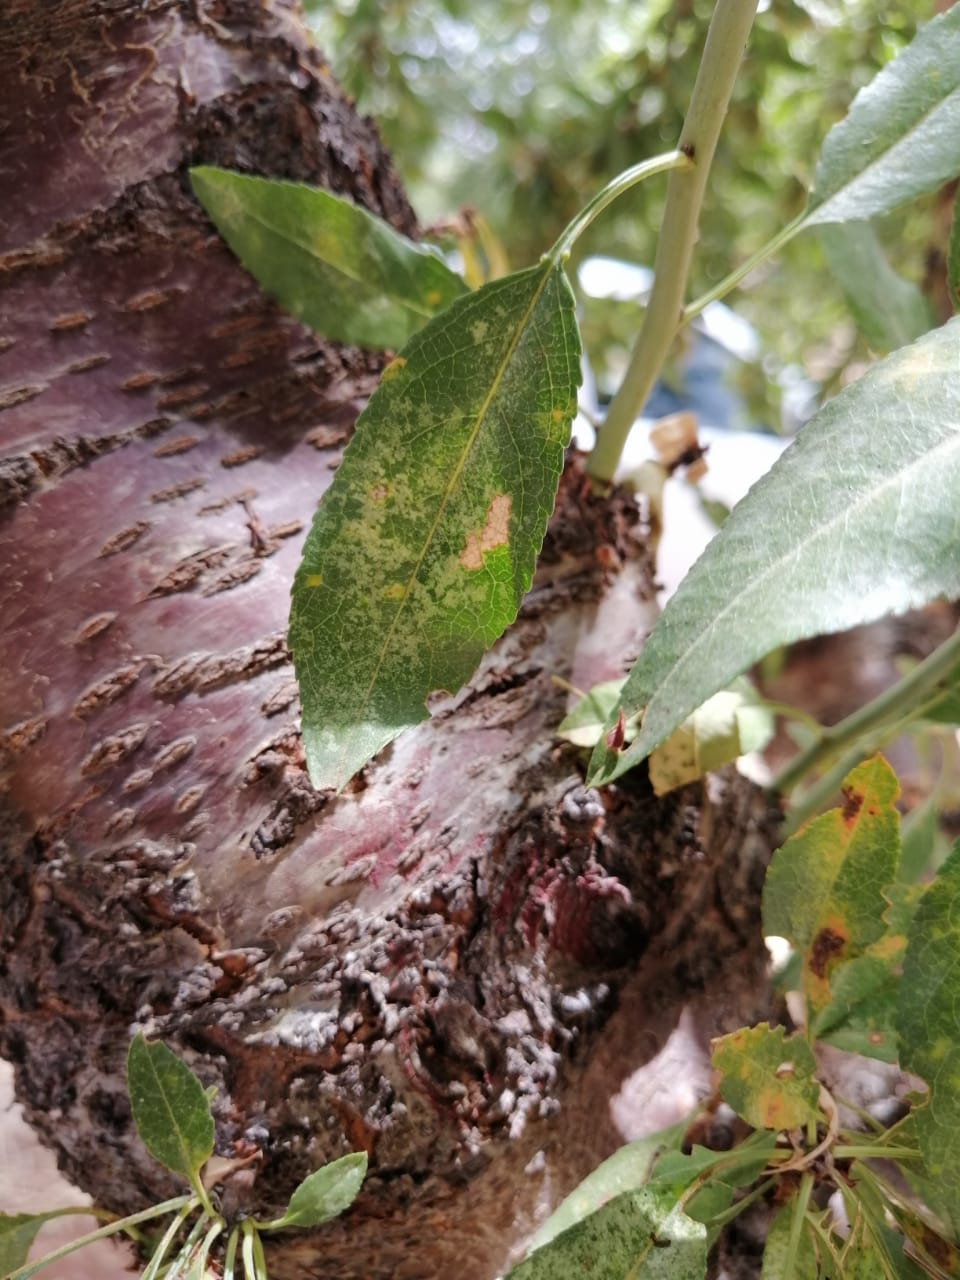faux tigre: (287, 258, 583, 792)
